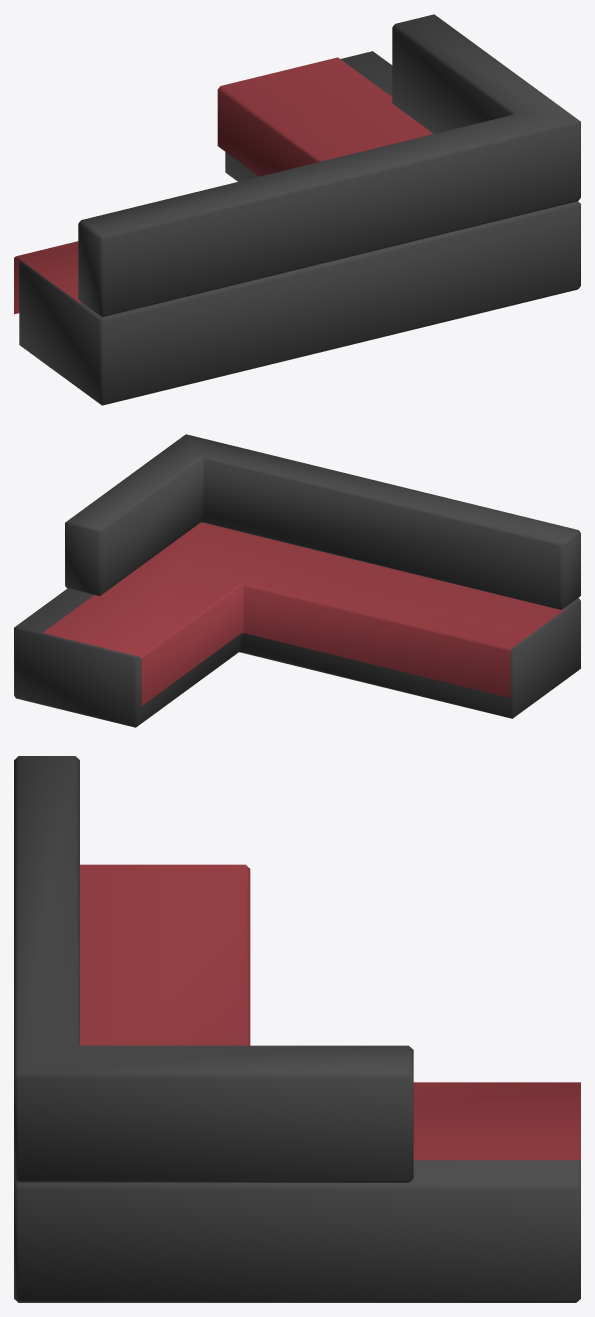
The model's file is Sofa.fbx.
3 renders of one model, top to bottom at view 1: azimuth 30°, elevation 25°; view 2: azimuth 150°, elevation 25°; view 3: azimuth 270°, elevation 25°, orthographic. The views are drawn at different scales.
Parts seen in each view (by area): view 1: Sofa; view 2: Sofa; view 3: Sofa.
Part boxes in pixels (x1,y1,x2,y2): Sofa: [14, 14, 580, 405]; Sofa: [14, 434, 580, 727]; Sofa: [14, 756, 580, 1302].
Size of the model in its own units: 8 by 2.7 by 6.
